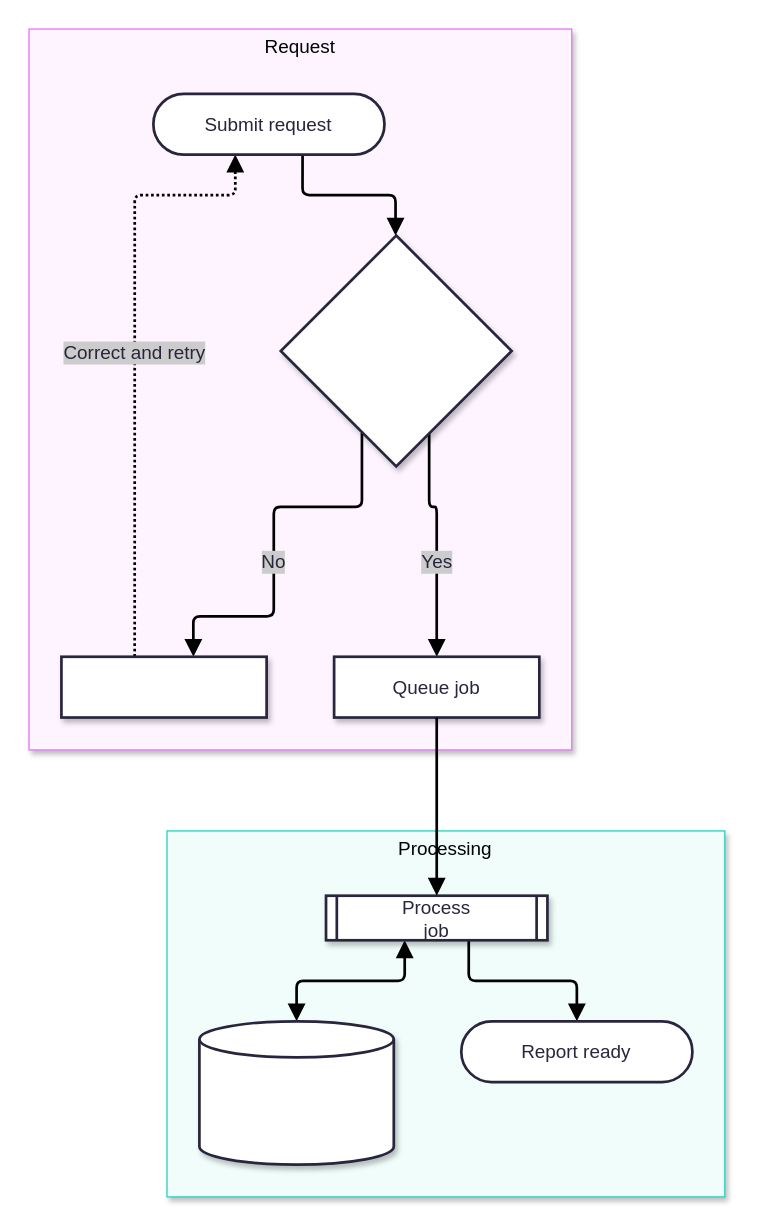
The diagram is 757 pixels wide and 1231 high, and some of its shapes have lost their labels. The centre of each missing label's shape, as x and y in pixels:
Input valid?: point 396,352
Reference database: point 297,1094
Show issues: point 164,688
